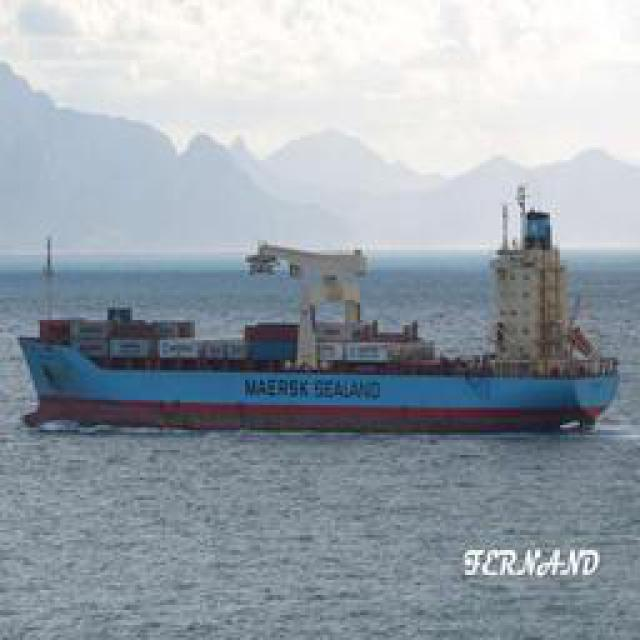Ship: (19, 231, 624, 439)
